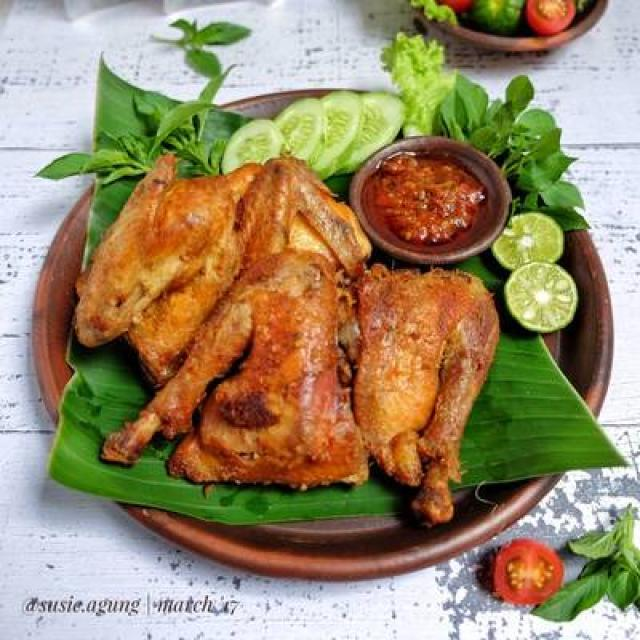ayam_goreng: (84, 128, 526, 537)
